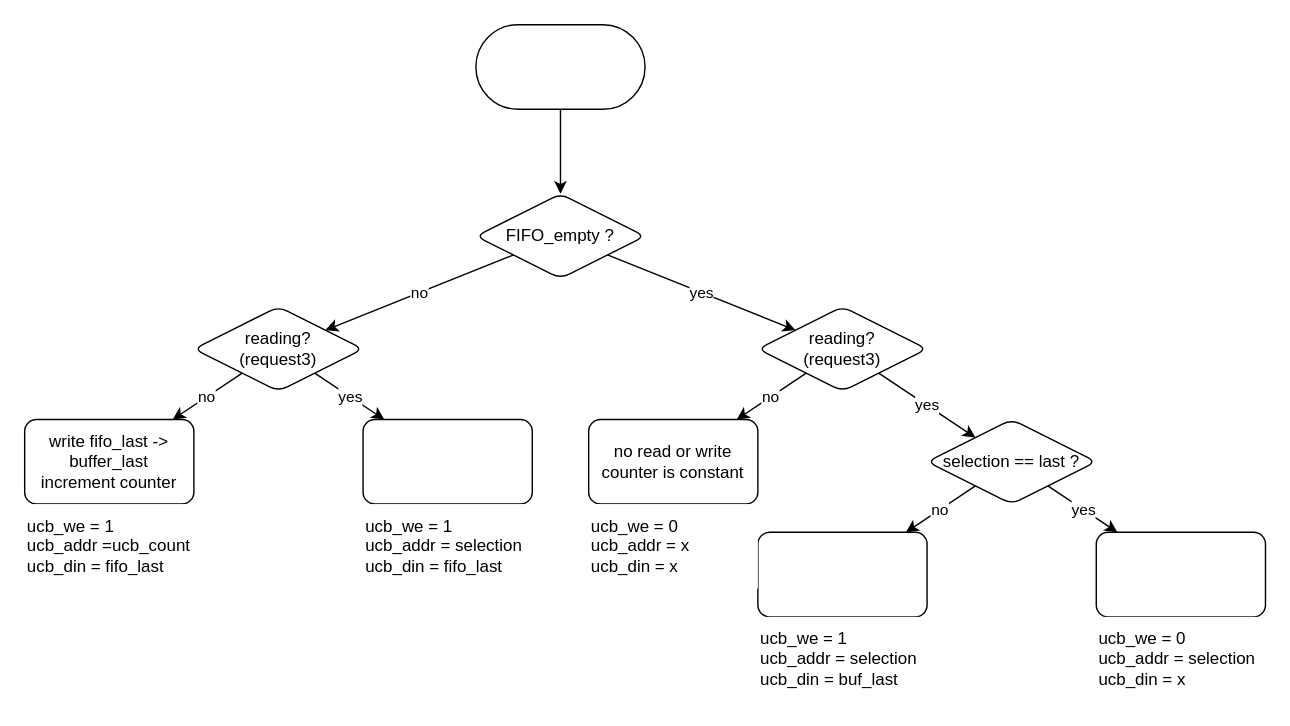
Some shapes in this 1290 by 726 pixel diagram are drawn without their labels. The shapes that lost their labels are listed below. From the top down, each one's centre as x and y in pixels, then its label:
At point 559,66: "Unsatisfied Clause Selector Decision Tree".
At point 447,461: "write from fifo to sel counter is constant".
At point 841,574: "write buffer last -> selection counter decrements".
At point 1180,574: "no write counter decrements".
